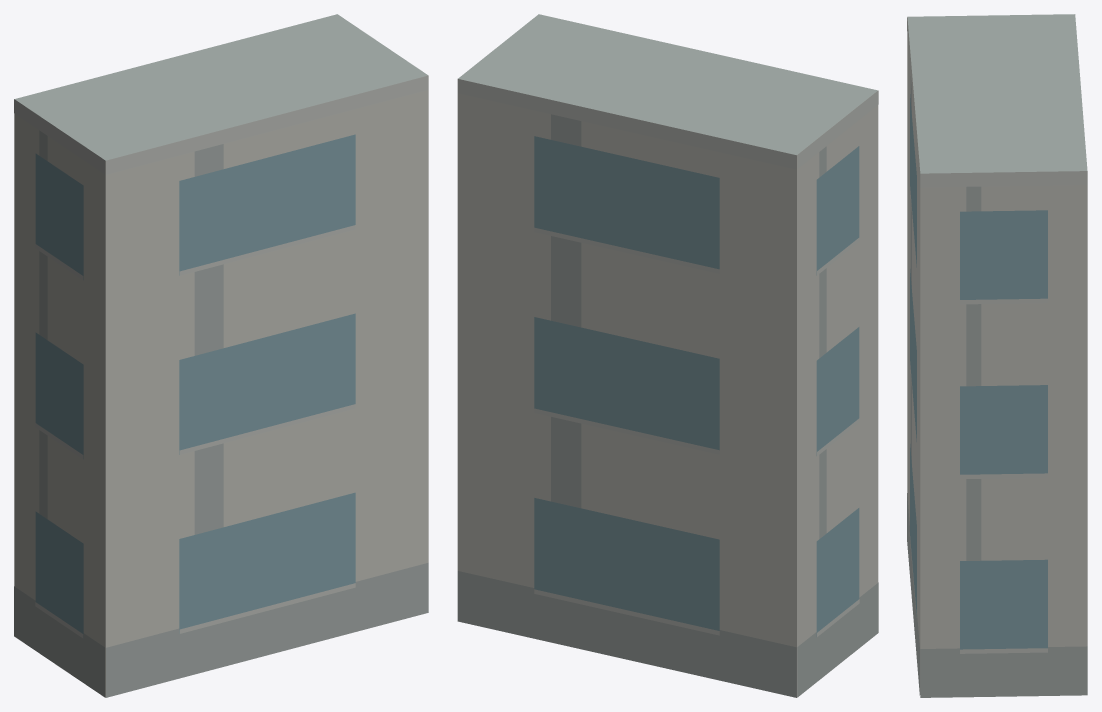
File: survey-upis-32961184.glb
3 views of the same model, side by side, from view 1: azimuth 30°, elevation 25°; view 2: azimuth 150°, elevation 25°; view 3: azimuth 270°, elevation 25° (orthographic). The views are drawn at different scales.
Parts seen in each view (by area): view 1: survey-upis-32961184.tmp; view 2: survey-upis-32961184.tmp; view 3: survey-upis-32961184.tmp.
Part boxes in pixels (box(x1,y1,x2,y2)): survey-upis-32961184.tmp: box(14, 14, 428, 697); survey-upis-32961184.tmp: box(457, 14, 878, 697); survey-upis-32961184.tmp: box(907, 14, 1087, 697).
Bounding box in the file's own units: 5.98 × 9.15 × 2.86.
